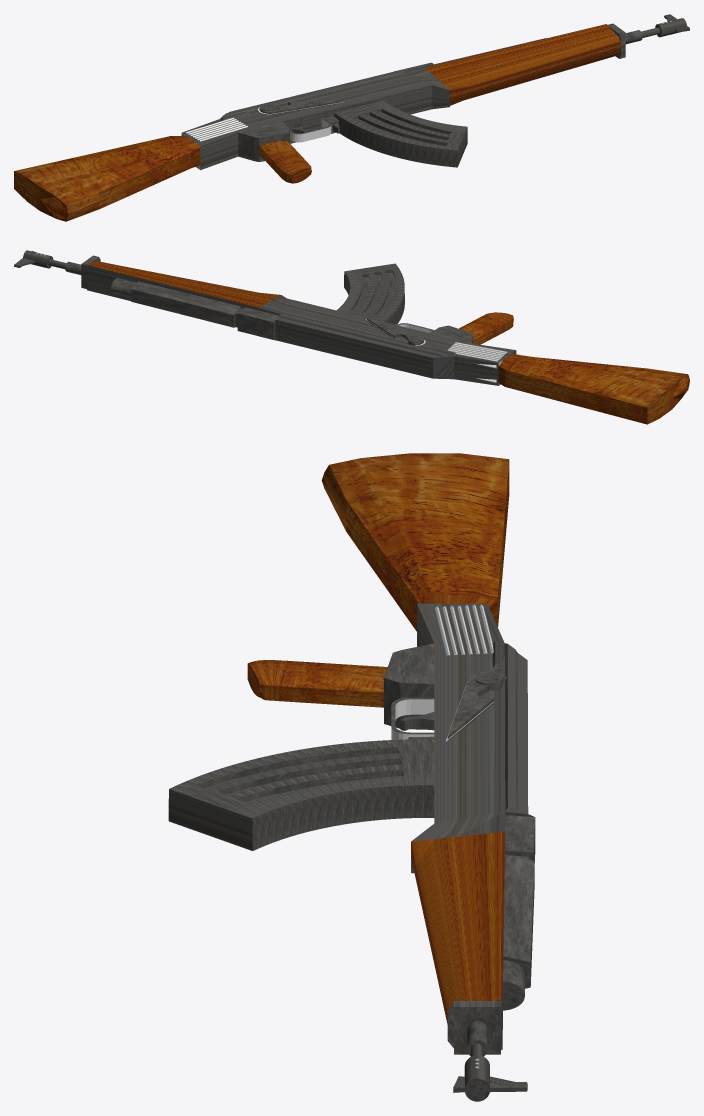
3 renders of one model, top to bottom at view 1: azimuth 30°, elevation 25°; view 2: azimuth 150°, elevation 25°; view 3: azimuth 270°, elevation 25°, orthographic. The views are drawn at different scales.
Parts seen in each view (by area): view 1: Gun_5, Gun_3, Gun, Gun_2, Barrel, Plane_3, Cube_6, Cube_4, Cube_1, Cube; view 2: Gun_5, Gun_3, Gun, Gun_2, Barrel, Plane_3, Cube_6, Barrel_Jacket, Cube_4, Cube; view 3: Gun_5, Gun_3, Gun, Gun_2, Barrel, Cube_6, Plane_3, Cube_4, Cube, Barrel_Jacket.
Part boxes in pixels (<box>): Gun_5: <box>181,23,625,170</box>; Gun_3: <box>14,135,200,221</box>; Gun: <box>425,24,620,105</box>; Gun_2: <box>259,140,311,183</box>; Barrel: <box>618,14,689,44</box>; Plane_3: <box>259,101,341,114</box>; Cube_6: <box>353,115,447,146</box>; Cube_4: <box>364,112,449,140</box>; Cube_1: <box>290,125,331,142</box>; Cube: <box>376,109,451,134</box>; Gun_5: <box>81,255,516,385</box>; Gun_3: <box>498,353,689,424</box>; Gun: <box>87,261,280,307</box>; Gun_2: <box>458,312,513,344</box>; Barrel: <box>14,250,81,274</box>; Plane_3: <box>367,318,424,346</box>; Cube_6: <box>375,269,395,315</box>; Barrel_Jacket: <box>111,278,136,297</box>; Cube_4: <box>363,272,382,313</box>; Cube: <box>350,274,369,310</box>; Gun_5: <box>168,603,535,1054</box>; Gun_3: <box>321,453,509,631</box>; Gun: <box>411,831,505,1024</box>; Gun_2: <box>247,660,387,707</box>; Barrel: <box>453,1021,527,1101</box>; Cube_6: <box>197,747,399,789</box>; Plane_3: <box>447,672,505,741</box>; Cube_4: <box>218,758,401,795</box>; Cube: <box>239,770,403,802</box>; Barrel_Jacket: <box>503,960,524,1010</box>.
Size of the model in its own units: 1155 by 52.92 by 291.
Materials: 3 (3 with a texture image).
